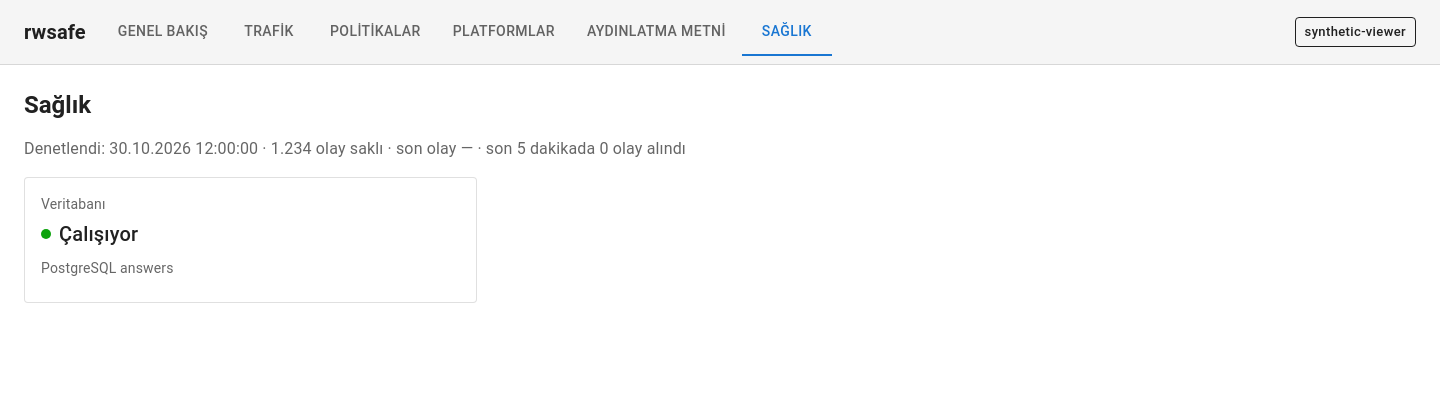
Test: app › stays signed in and shows the reason when the sign-out fails
Click the button with aria-label "Kullanıcı menüsü".
click(1355, 32)  # box [1295,17,1416,47]
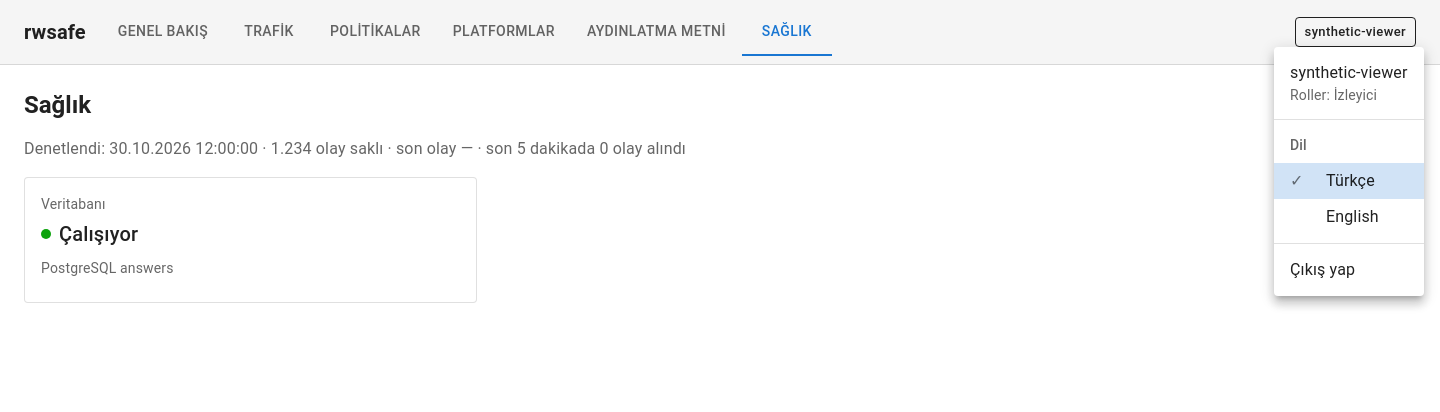
Click the menu item "Çıkış yap".
click(1323, 270)  # box [1290,260,1355,279]
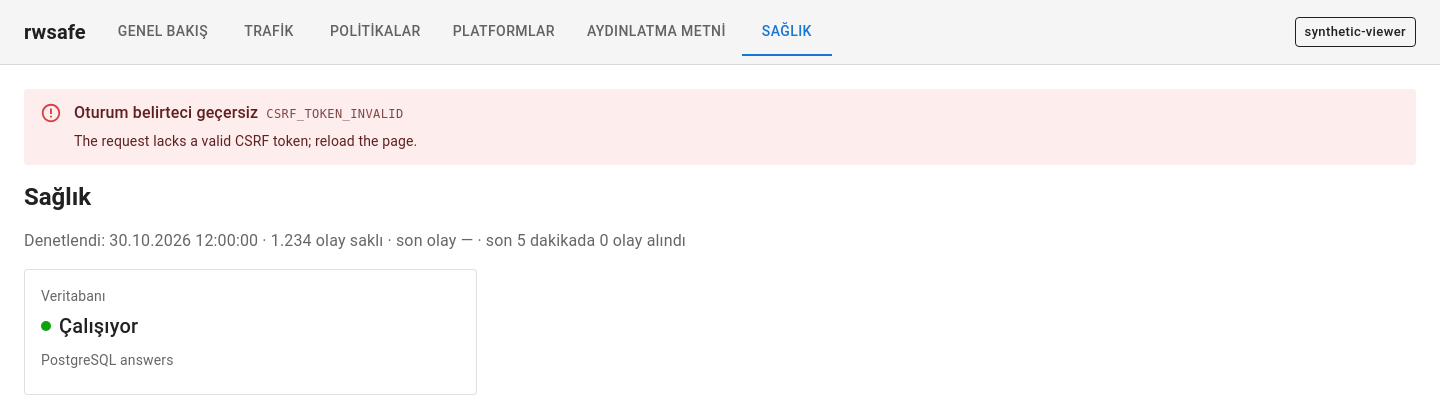
Expected: the button with aria-label "Kullanıcı menüsü" is shown, [1295,17,1416,47]
Now the message shows "CSRF_TOKEN_INVALID", box [266,107,404,121]
